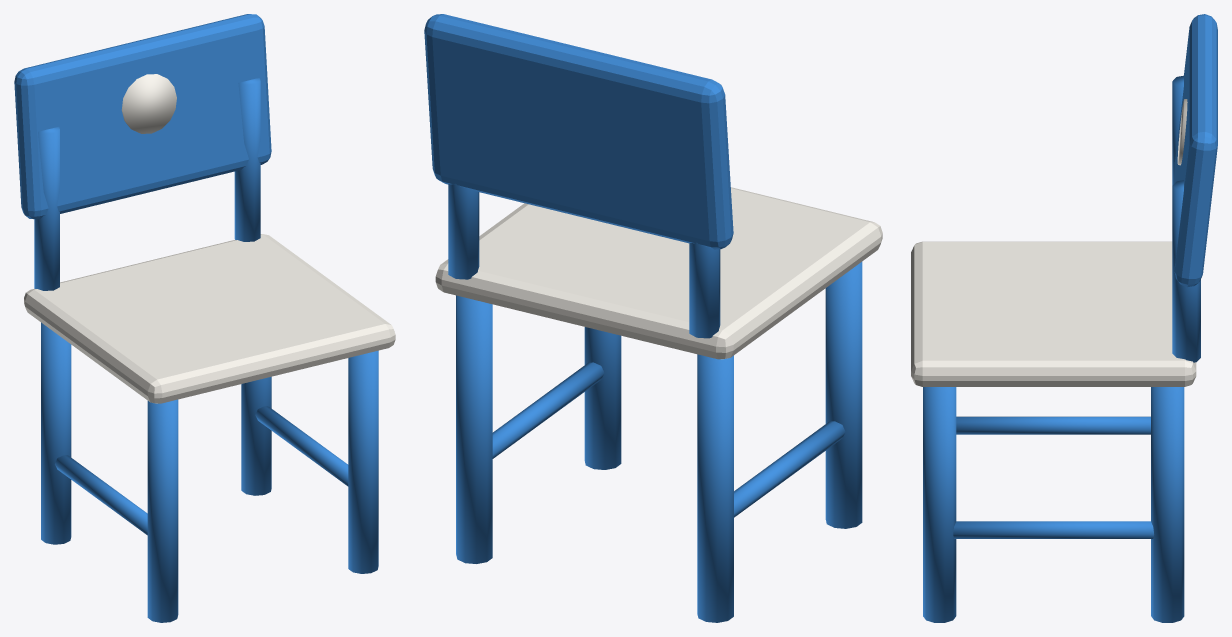
Rendered from kidsChair.glb.
3 views of the same model, side by side, from view 1: azimuth 30°, elevation 25°; view 2: azimuth 150°, elevation 25°; view 3: azimuth 270°, elevation 25° (orthographic). The views are drawn at different scales.
Visible parts, largest first — view 1: kidsChair; view 2: kidsChair; view 3: kidsChair.
Part boxes in pixels (<box>): kidsChair: <box>14,14,395,622</box>; kidsChair: <box>424,14,882,622</box>; kidsChair: <box>911,14,1217,622</box>.
Bounding box in the file's own units: 0.32 × 0.5695 × 0.3228.
